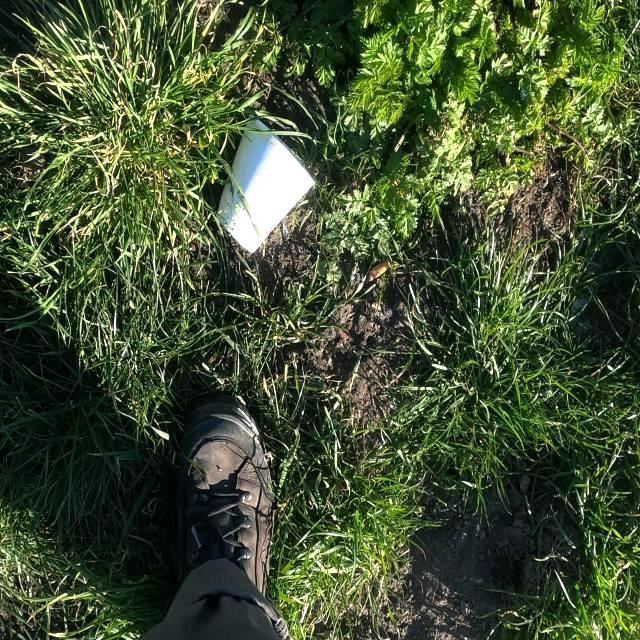Coffee Cup: (213, 112, 317, 254)
